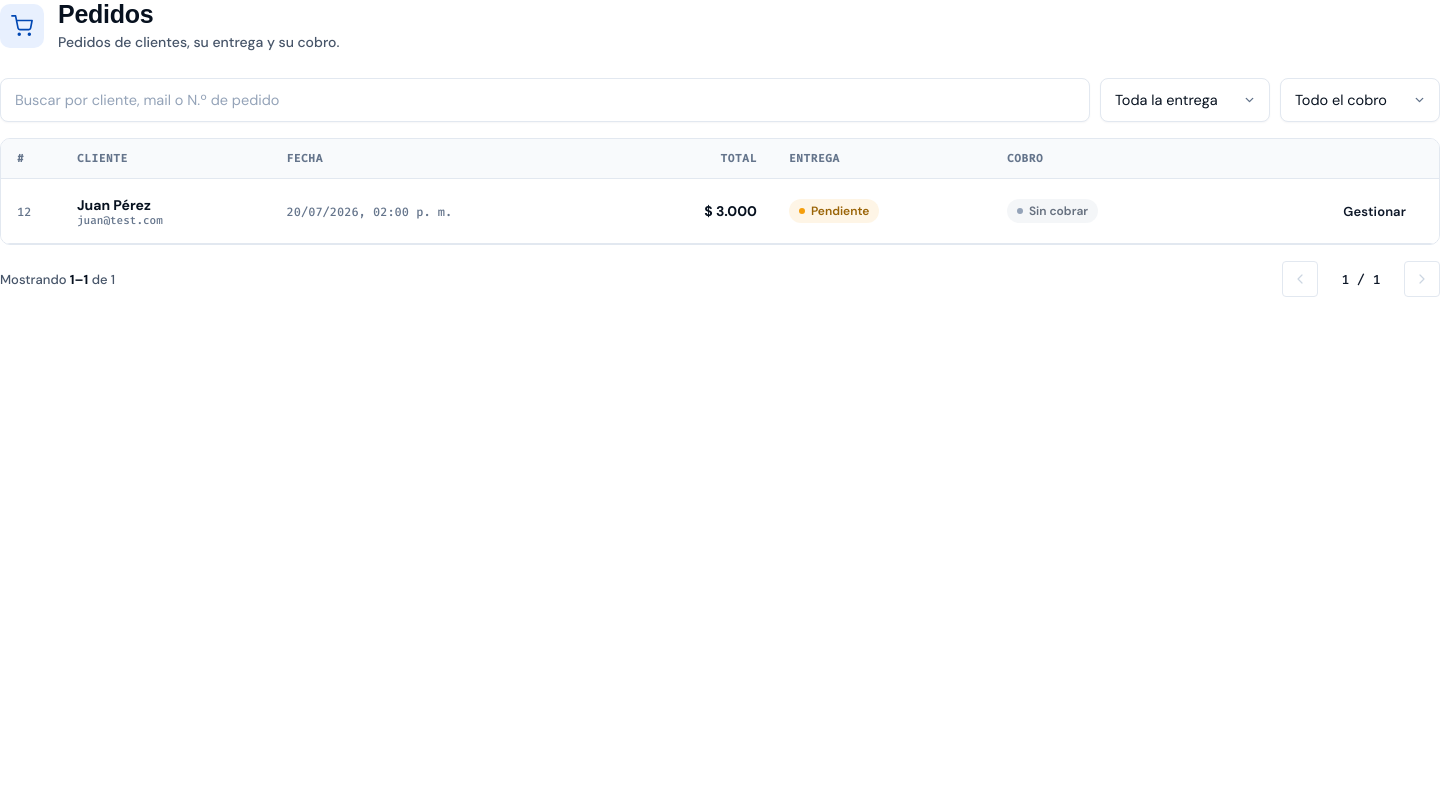
Scenario: AdminOrdersPage — contacto › cae al mail cuando el cliente no tiene teléfono
Expected: the text "Juan Pérez" is shown, [77, 196, 151, 214]
Click the button "Gestionar" at x=1375, y=211, box [1326, 192, 1423, 230]
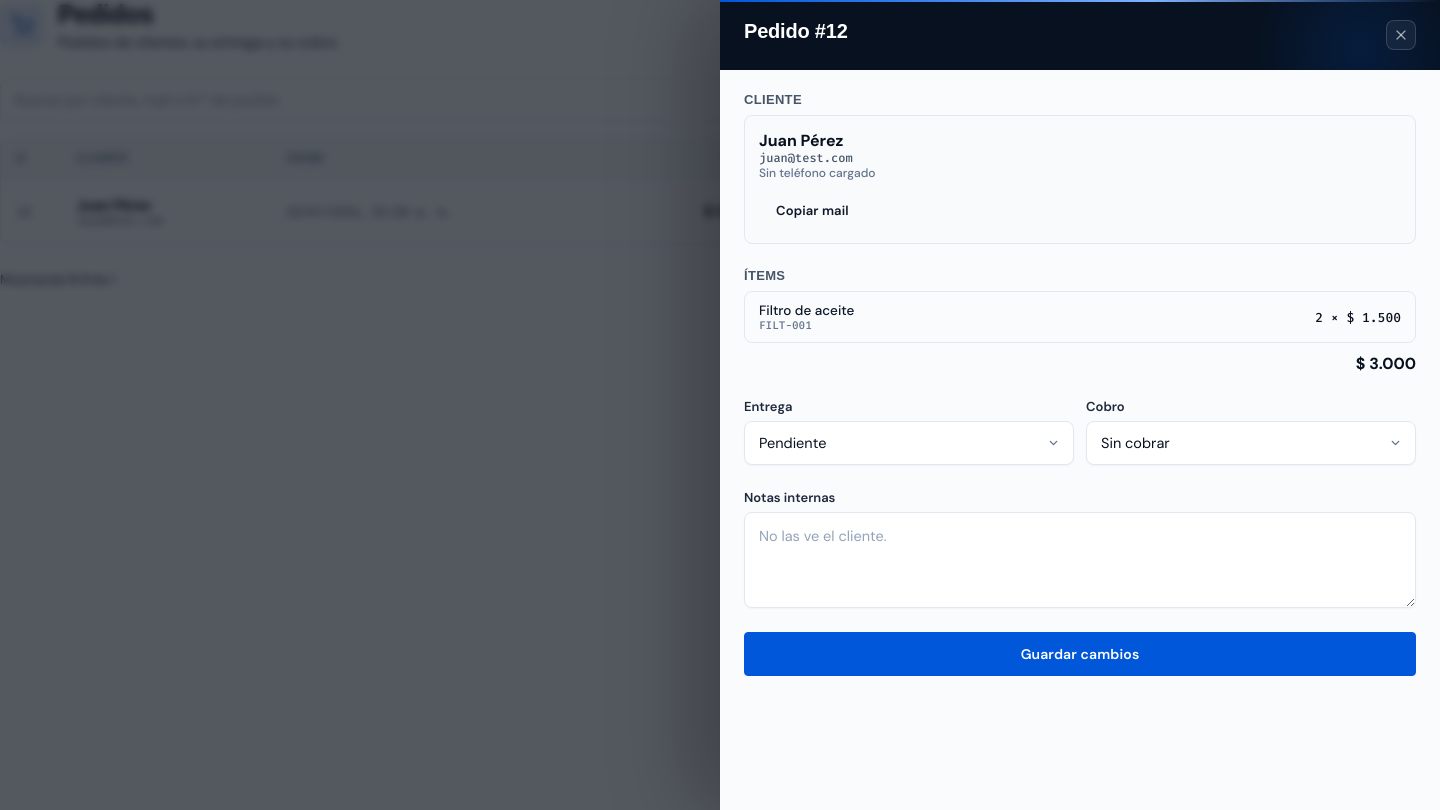
Now the button "Copiar mail" is shown, box [759, 191, 866, 229]
